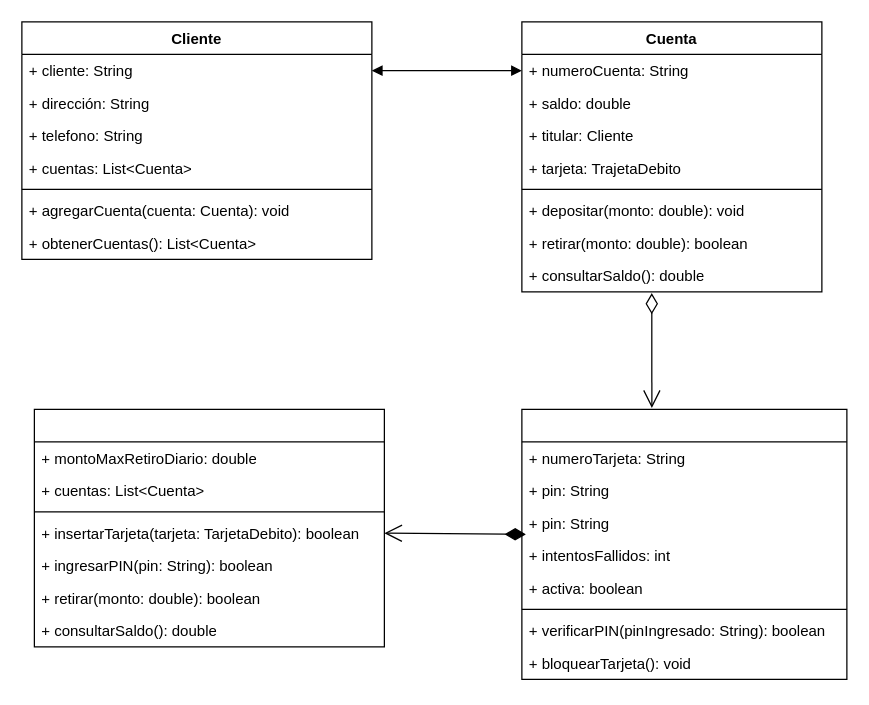
This 869x705 diagram has some shape labels left out. The box of each missing label's shape, as (x1, y1, x2, y2) in pixels:
CajeroAuto: (33, 408, 384, 647)
TrajetaDebito: (521, 408, 847, 679)
